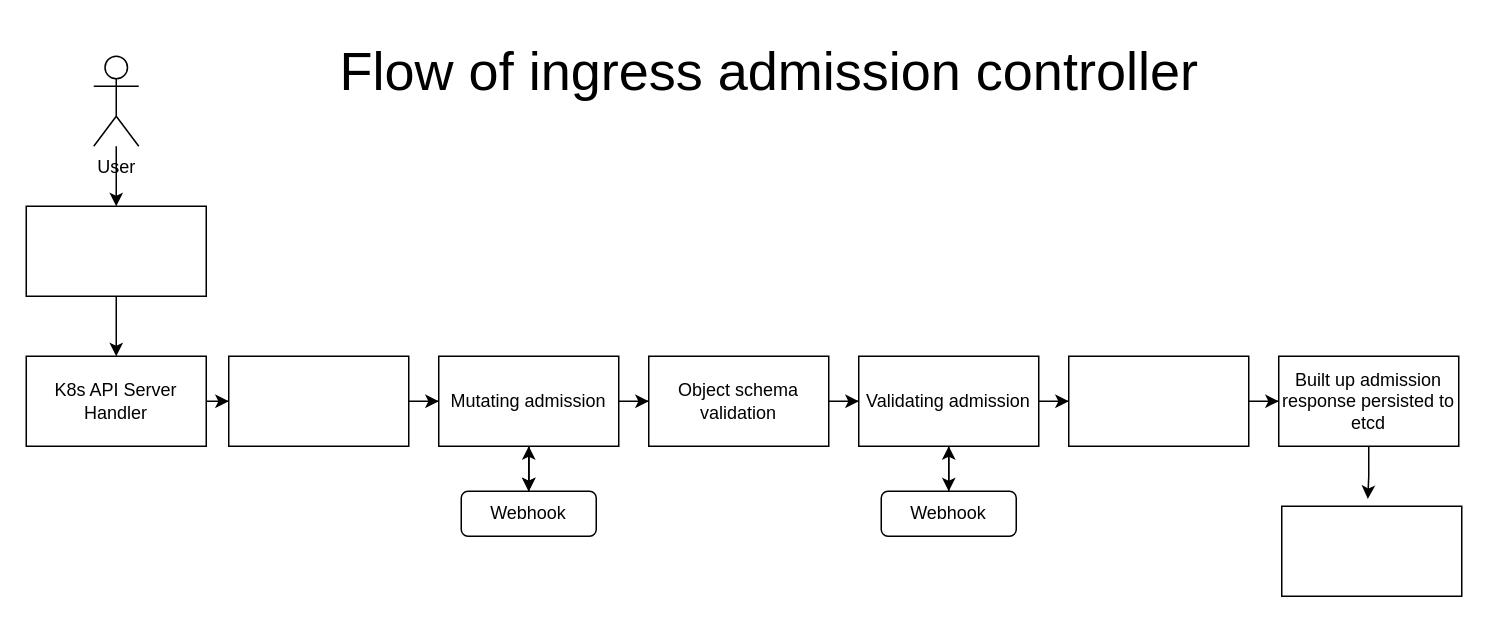
Some shapes in this 1488 by 623 pixel diagram are drawn without their labels. The centre of each missing label's shape, as x and y in pixels:
"Admission review (validated & mutated)" goes at [1158,400].
"Authentication authorization" goes at [318,400].
"Creates Ingress object" goes at [115,250].
"Mutated and validated Ingress Object" goes at [1371,550].
